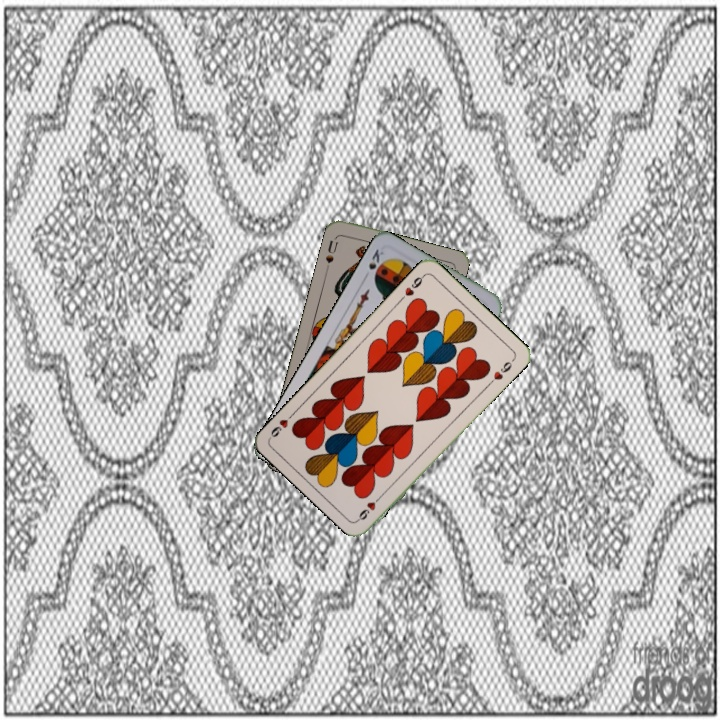H9: (354, 490, 385, 523), (396, 271, 427, 303)
SK: (360, 245, 387, 282)
SU: (321, 233, 341, 273)
